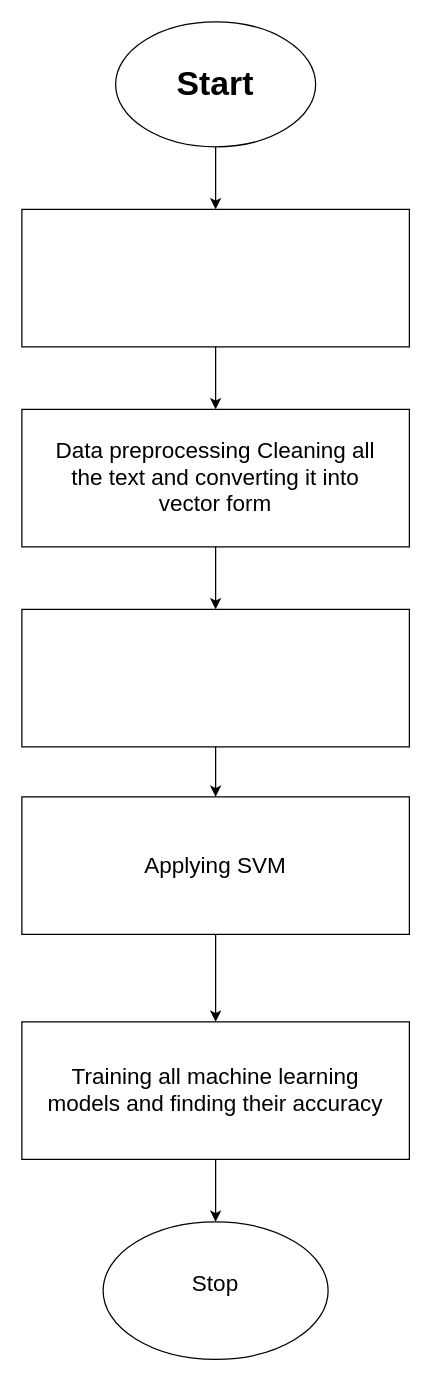
Some shapes in this 431 by 1381 pixel diagram are drawn without their labels. The shapes that lost their labels are listed below. From the top down, each one's centre as x and y in pixels, then its label:
At point (215, 277): "Data Collection and importing all the libraries".
At point (215, 677): "Spliting the dataset into train and test set".
